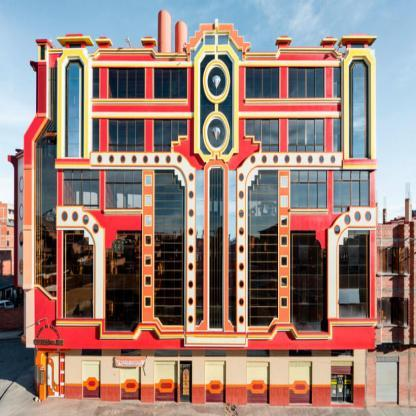Building Outline: (7, 18, 378, 407)
Deco: (33, 323, 64, 346), (211, 127, 221, 141), (212, 75, 221, 89)
Door: (289, 362, 313, 405), (331, 361, 354, 405), (154, 361, 178, 402), (247, 362, 269, 404), (205, 361, 226, 403), (47, 352, 65, 398), (121, 363, 141, 401), (82, 361, 101, 399), (180, 361, 192, 403)
Facade: (7, 17, 379, 407)
Glass Wall: (34, 67, 57, 298), (154, 170, 185, 326), (248, 170, 278, 326), (290, 231, 327, 332), (105, 231, 142, 331), (339, 230, 370, 318), (62, 231, 93, 318), (209, 168, 223, 328), (64, 60, 84, 159), (349, 59, 368, 159), (195, 170, 204, 326), (228, 170, 236, 327)
Shop: (114, 356, 147, 367)
Sill: (245, 98, 342, 105), (91, 98, 188, 105), (290, 209, 329, 215), (103, 209, 142, 215)
Window: (200, 55, 215, 155), (334, 171, 369, 213), (63, 170, 100, 209), (106, 170, 142, 209), (291, 170, 327, 209), (218, 55, 232, 155), (108, 119, 145, 153), (288, 119, 325, 151), (245, 119, 280, 152), (108, 67, 145, 98), (288, 67, 325, 98), (153, 119, 187, 152), (246, 67, 280, 98), (154, 68, 187, 98), (333, 119, 341, 151), (191, 39, 203, 60), (229, 41, 242, 60), (92, 68, 100, 98), (92, 119, 99, 151), (334, 66, 341, 98), (154, 349, 178, 357), (247, 349, 270, 356), (289, 349, 312, 356), (120, 349, 142, 356), (205, 350, 226, 357), (82, 349, 102, 356), (331, 350, 354, 356), (205, 36, 215, 45), (218, 35, 228, 44), (180, 350, 192, 357), (281, 196, 288, 206), (145, 195, 152, 205), (281, 216, 288, 226), (281, 236, 288, 246), (281, 257, 288, 267), (281, 277, 288, 287), (281, 297, 288, 307), (281, 177, 288, 187), (145, 215, 151, 225), (145, 235, 151, 245), (145, 255, 151, 265), (145, 176, 151, 186), (145, 297, 151, 307), (145, 276, 151, 286), (41, 46, 45, 61), (351, 44, 364, 48), (69, 44, 81, 48)
